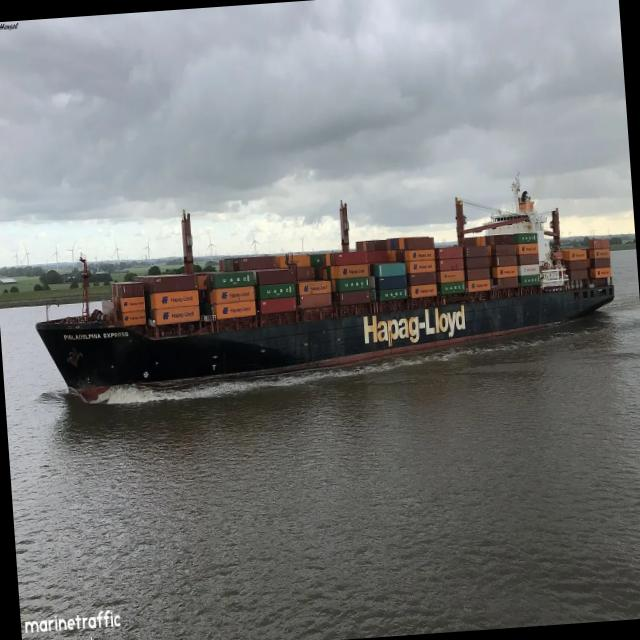Cargo: (36, 191, 613, 392)
